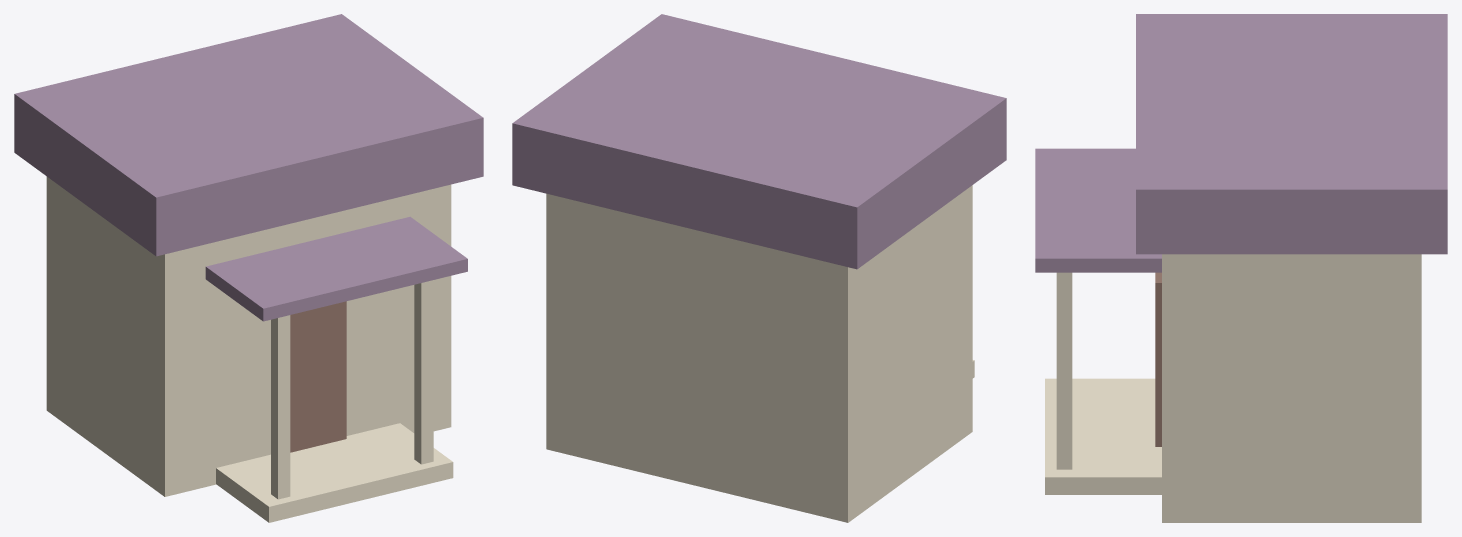
The model's file is house_c_lo1.glb.
3 views of the same model, side by side, from view 1: azimuth 30°, elevation 25°; view 2: azimuth 150°, elevation 25°; view 3: azimuth 270°, elevation 25° (orthographic). The views are drawn at different scales.
Visible parts, largest first — view 1: house_c_lo1; view 2: house_c_lo1; view 3: house_c_lo1.
Boxes of the visible parts, x1,y1,x2,y2 form: house_c_lo1: [14, 14, 483, 522]; house_c_lo1: [512, 14, 1006, 522]; house_c_lo1: [1035, 14, 1447, 522].
Bounding box in the file's own units: 3.2 × 2.93 × 3.17.
